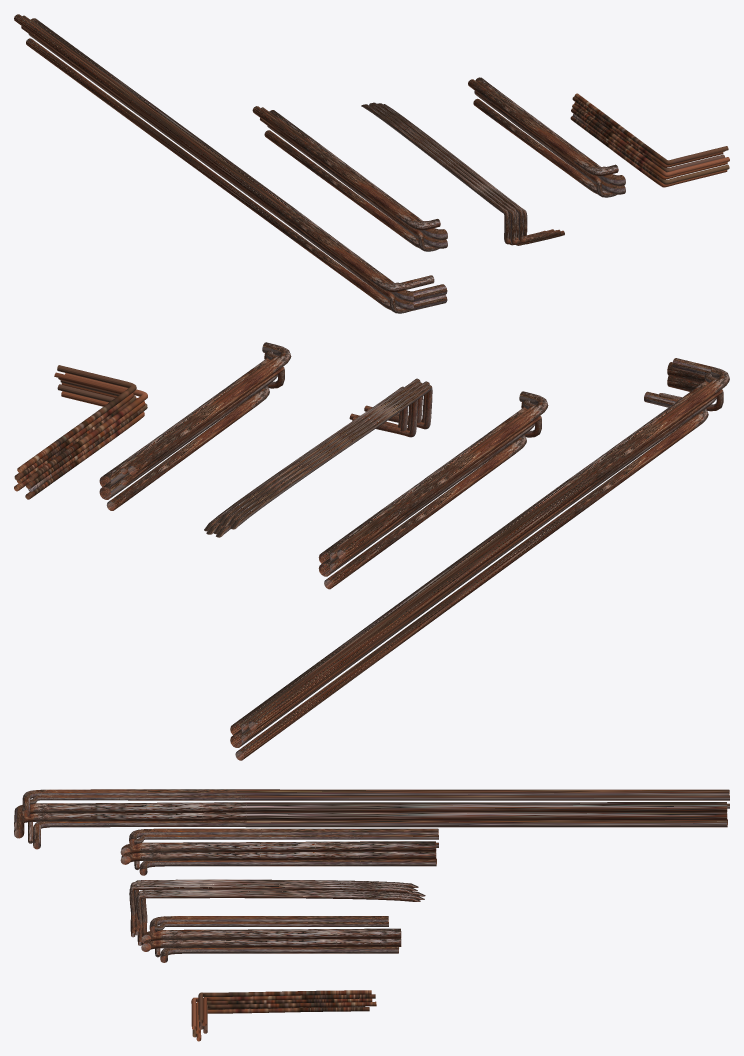
File: Decorational Pipelines_FBX.fbx
3 views of the same model, one above another, from view 1: azimuth 30°, elevation 25°; view 2: azimuth 150°, elevation 25°; view 3: azimuth 270°, elevation 25° (orthographic). The views are drawn at different scales.
Parts seen in each view (by area): view 1: Tuberías largas, Tuberías medianas 2, Tuberías pequeñas 2, Tuberías pequeñas 1, Tuberías medianas 1; view 2: Tuberías largas, Tuberías medianas 2, Tuberías pequeñas 2, Tuberías pequeñas 1, Tuberías medianas 1; view 3: Tuberías largas, Tuberías medianas 2, Tuberías pequeñas 2, Tuberías medianas 1, Tuberías pequeñas 1.
Part boxes in pixels (left/top/right/bottom): Tuberías largas: left=14, top=14, right=447, bottom=313; Tuberías medianas 2: left=252, top=106, right=447, bottom=251; Tuberías pequeñas 2: left=468, top=77, right=625, bottom=197; Tuberías pequeñas 1: left=570, top=93, right=729, bottom=187; Tuberías medianas 1: left=361, top=102, right=564, bottom=245; Tuberías largas: left=230, top=358, right=729, bottom=760; Tuberías medianas 2: left=318, top=391, right=548, bottom=589; Tuberías pequeñas 2: left=99, top=342, right=291, bottom=510; Tuberías pequeñas 1: left=14, top=365, right=147, bottom=499; Tuberías medianas 1: left=204, top=378, right=432, bottom=537; Tuberías largas: left=14, top=789, right=729, bottom=849; Tuberías medianas 2: left=120, top=828, right=438, bottom=875; Tuberías pequeñas 2: left=141, top=916, right=401, bottom=962; Tuberías medianas 1: left=129, top=879, right=425, bottom=945; Tuberías pequeñas 1: left=191, top=990, right=376, bottom=1041.
Bounding box in the file's own units: 4600 × 585 × 6941.
